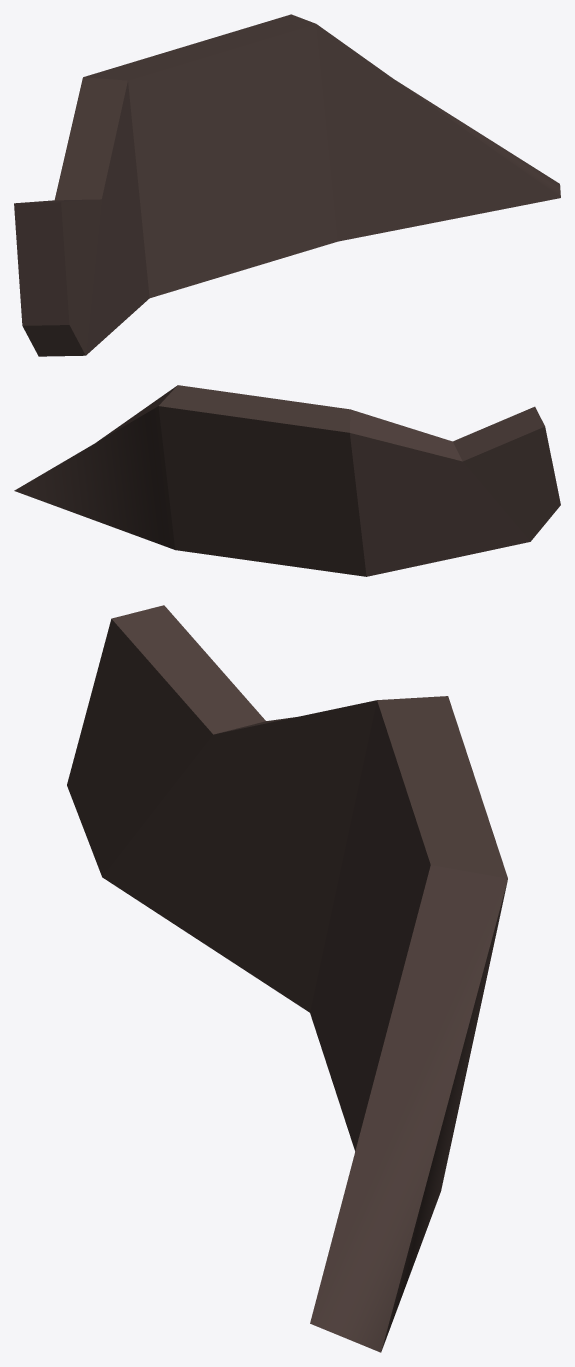
File: SM_Prop_Chair_01.obj
3 renders of one model, top to bottom at view 1: azimuth 30°, elevation 25°; view 2: azimuth 150°, elevation 25°; view 3: azimuth 270°, elevation 25°, orthographic. The views are drawn at different scales.
Parts seen in each view (by area): view 1: SM_Prop_Chair_01_0; view 2: SM_Prop_Chair_01_0; view 3: SM_Prop_Chair_01_0.
Part boxes in pixels (bbox=[...]): SM_Prop_Chair_01_0: bbox=[14, 14, 560, 356]; SM_Prop_Chair_01_0: bbox=[14, 385, 560, 576]; SM_Prop_Chair_01_0: bbox=[67, 605, 507, 1352].
Bounding box in the file's own units: 0.4821 × 0.1606 × 0.1913.
1 material, 1 textured.
